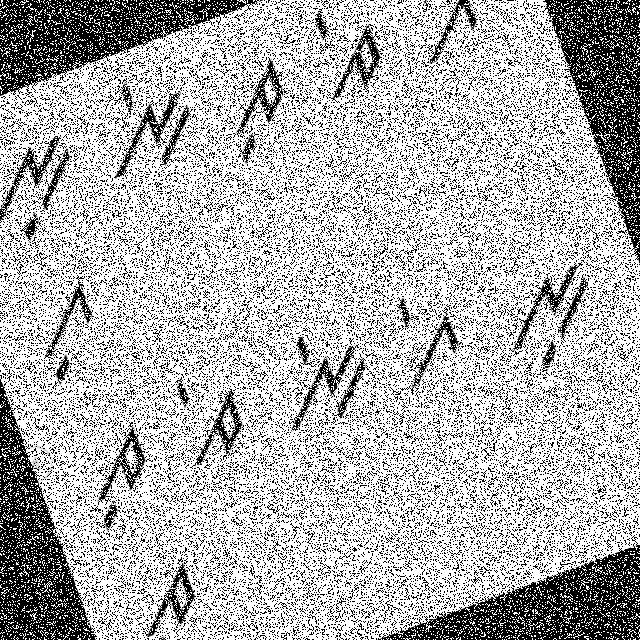ge: (378, 276, 477, 398), (389, 0, 495, 71)
gu: (16, 278, 118, 390)
nge: (252, 304, 386, 444), (86, 62, 213, 186)
ngu: (482, 244, 616, 386), (0, 121, 102, 258)
te: (156, 356, 258, 472), (295, 0, 398, 107)
tu: (67, 414, 174, 536), (206, 51, 312, 170), (118, 550, 225, 639)
